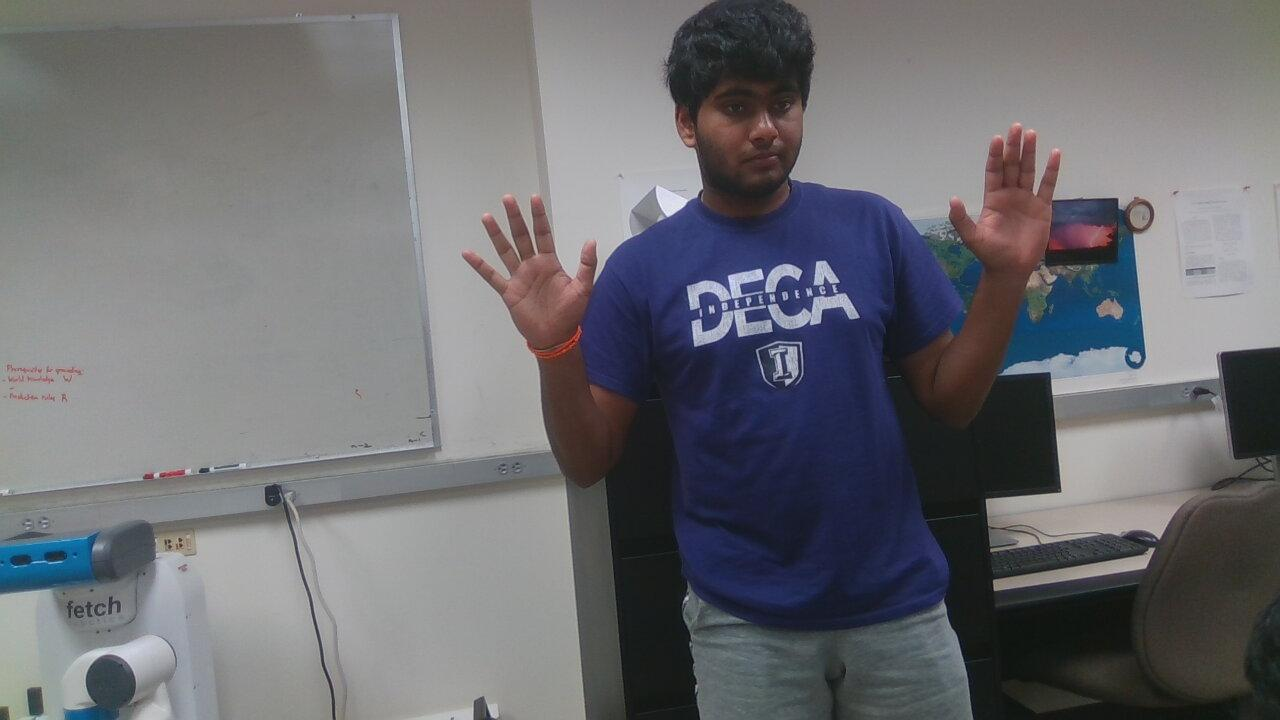hands: (451, 179, 602, 361), (936, 122, 1092, 285)
